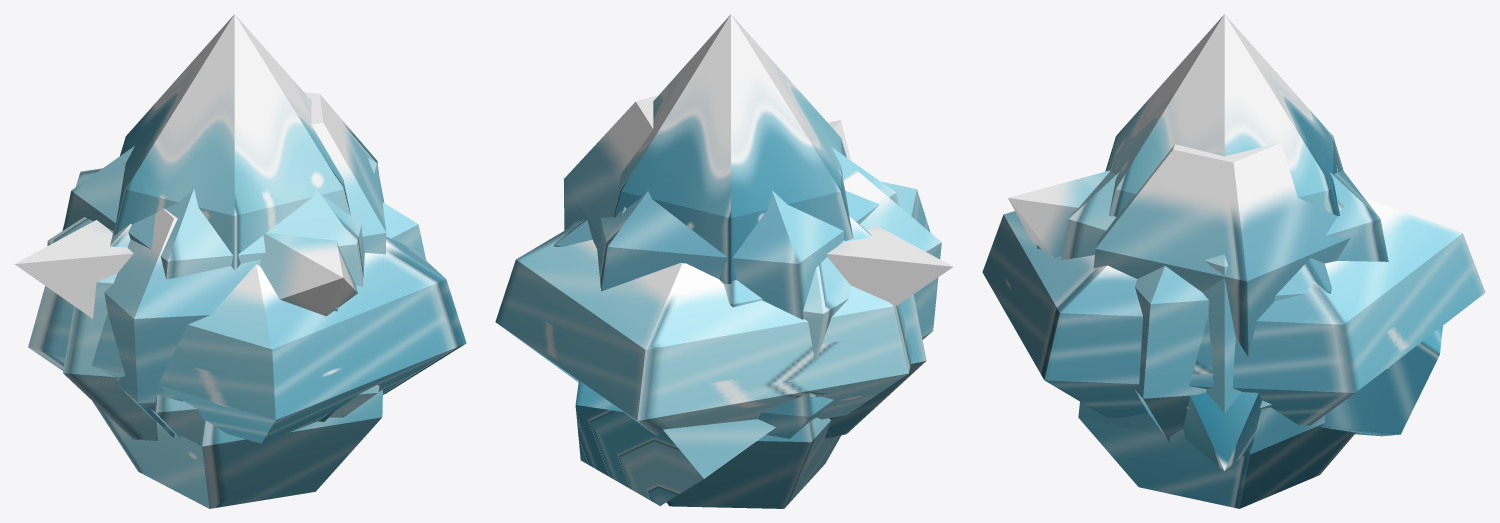
The model's file is icechunks.glb.
3 views of the same model, side by side, from view 1: azimuth 30°, elevation 25°; view 2: azimuth 150°, elevation 25°; view 3: azimuth 270°, elevation 25° (orthographic).
Parts seen in each view (by area): view 1: chunk-5, chunk-4, chunk-3, chunk-0, chunk-9, chunk-1, chunk-7, chunk-2; view 2: chunk-5, chunk-4, chunk-0, chunk-3, chunk-7, chunk-9, chunk-2, chunk-1; view 3: chunk-5, chunk-3, chunk-4, chunk-1, chunk-7, chunk-0, chunk-2.
Boxes of the visible parts, box(x1,y1,x2,y2) form: chunk-5: box(28, 168, 466, 443); chunk-4: box(113, 14, 350, 270); chunk-3: box(92, 92, 386, 508); chunk-0: box(63, 146, 384, 437); chunk-9: box(47, 208, 338, 437); chunk-1: box(63, 202, 425, 440); chunk-7: box(260, 233, 357, 316); chunk-2: box(14, 220, 133, 318); chunk-5: box(495, 181, 930, 435); chunk-4: box(614, 14, 853, 283); chunk-0: box(597, 147, 898, 438); chunk-3: box(563, 95, 841, 508); chunk-7: box(575, 120, 850, 505); chunk-9: box(803, 171, 941, 396); chunk-2: box(827, 225, 953, 307); chunk-1: box(554, 216, 926, 438); chunk-5: box(982, 198, 1485, 425); chunk-3: box(1078, 142, 1355, 508); chunk-4: box(1105, 14, 1343, 216); chunk-1: box(1134, 258, 1331, 442); chunk-7: box(1008, 170, 1442, 436); chunk-0: box(1060, 170, 1389, 412); chunk-2: box(1183, 392, 1261, 470).
Size of the model in its own units: 1.01 by 1.1 by 1.04.
1 material, 1 textured.
